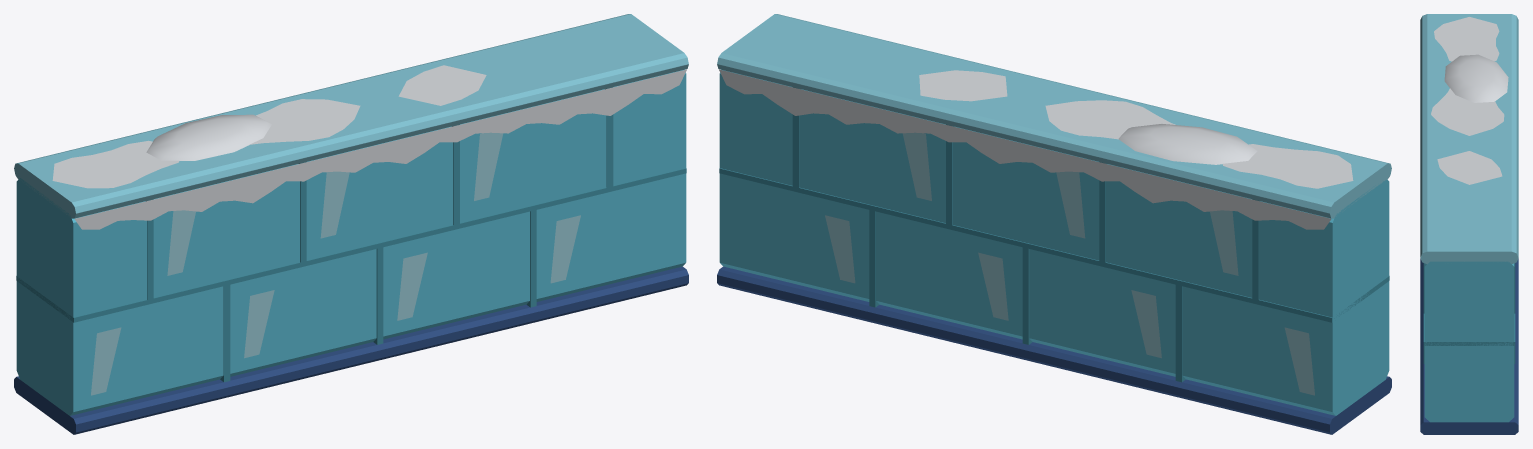
The model's file is ice-border.glb.
The picture shows the model from 3 angles, left to right: view 1: azimuth 30°, elevation 25°; view 2: azimuth 150°, elevation 25°; view 3: azimuth 270°, elevation 25°; orthographic projection. The views are drawn at different scales.
Visible parts, largest first — view 1: ice-border; view 2: ice-border; view 3: ice-border.
Part boxes in pixels (bbox=[...]): ice-border: bbox=[14, 14, 688, 434]; ice-border: bbox=[717, 14, 1391, 434]; ice-border: bbox=[1420, 14, 1518, 434].
Bounding box in the file's own units: 4 × 1.5 × 0.7.
